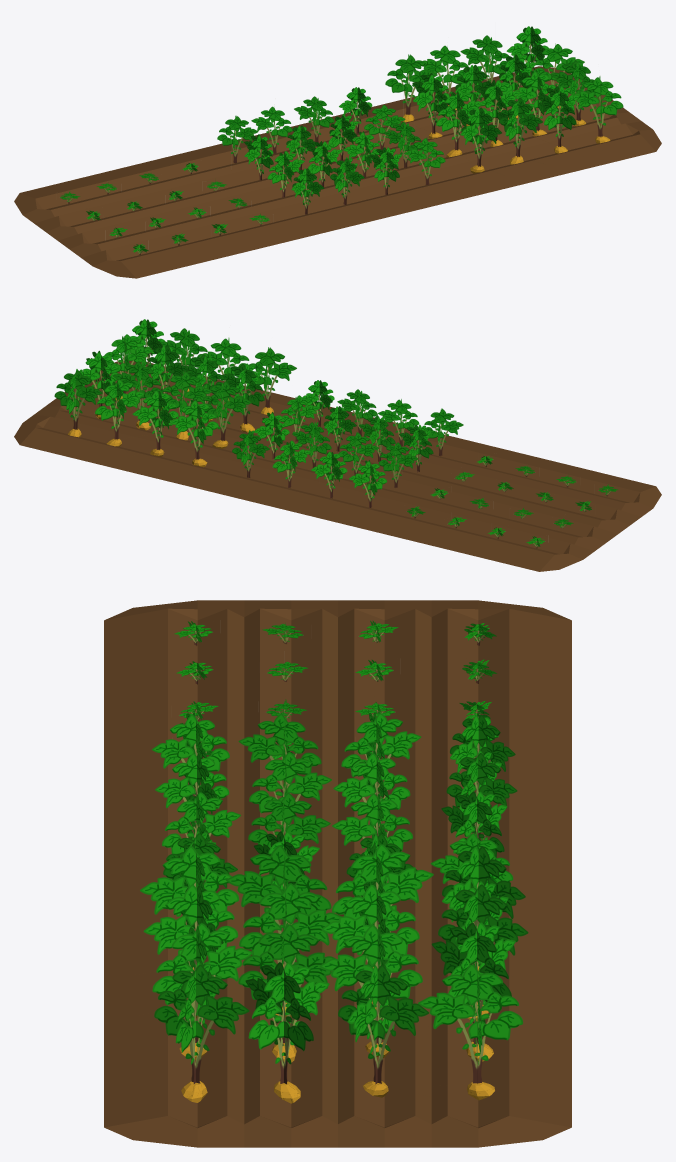
Rendered from potato_crops.glb.
The picture shows the model from 3 angles, top to bottom: view 1: azimuth 30°, elevation 25°; view 2: azimuth 150°, elevation 25°; view 3: azimuth 270°, elevation 25°; orthographic projection. The views are drawn at different scales.
Visible parts, largest first — view 1: Soil, Potatoe_F3, Potatoe_F2, Potatoe_F1; view 2: Soil, Potatoe_F3, Potatoe_F2, Potatoe_F1; view 3: Soil, Potatoe_F3, Potatoe_F2, Potatoe_F1.
Part boxes in pixels (box(x1,y1,x2,y2)): Soil: box(14, 66, 661, 278); Potatoe_F3: box(385, 26, 623, 173); Potatoe_F2: box(217, 87, 445, 214); Potatoe_F1: box(60, 163, 269, 254); Soil: box(14, 360, 661, 571); Potatoe_F3: box(54, 319, 296, 467); Potatoe_F2: box(232, 380, 463, 507); Potatoe_F1: box(407, 456, 618, 548); Soil: box(104, 600, 571, 1147); Potatoe_F3: box(140, 842, 528, 1103); Potatoe_F2: box(152, 712, 517, 924); Potatoe_F1: box(174, 620, 497, 759).
Size of the model in its own units: 7.52 by 0.844 by 2.72.
Materials: 2 (1 with a texture image).
